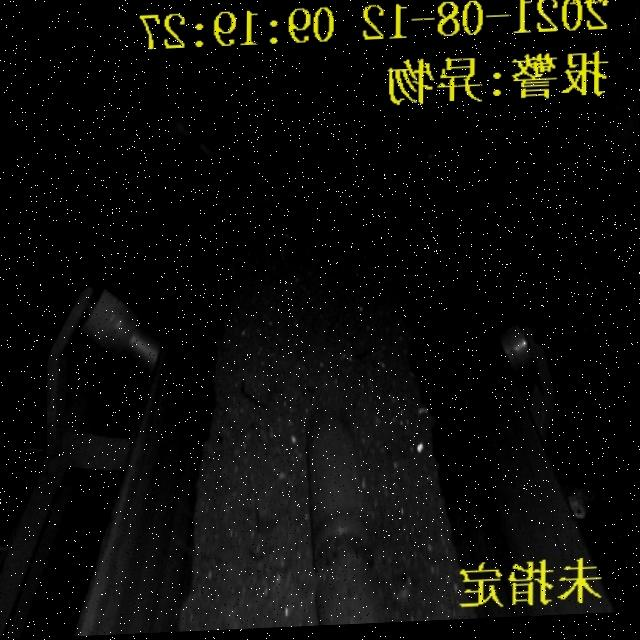bolt: (291, 410, 386, 630)
